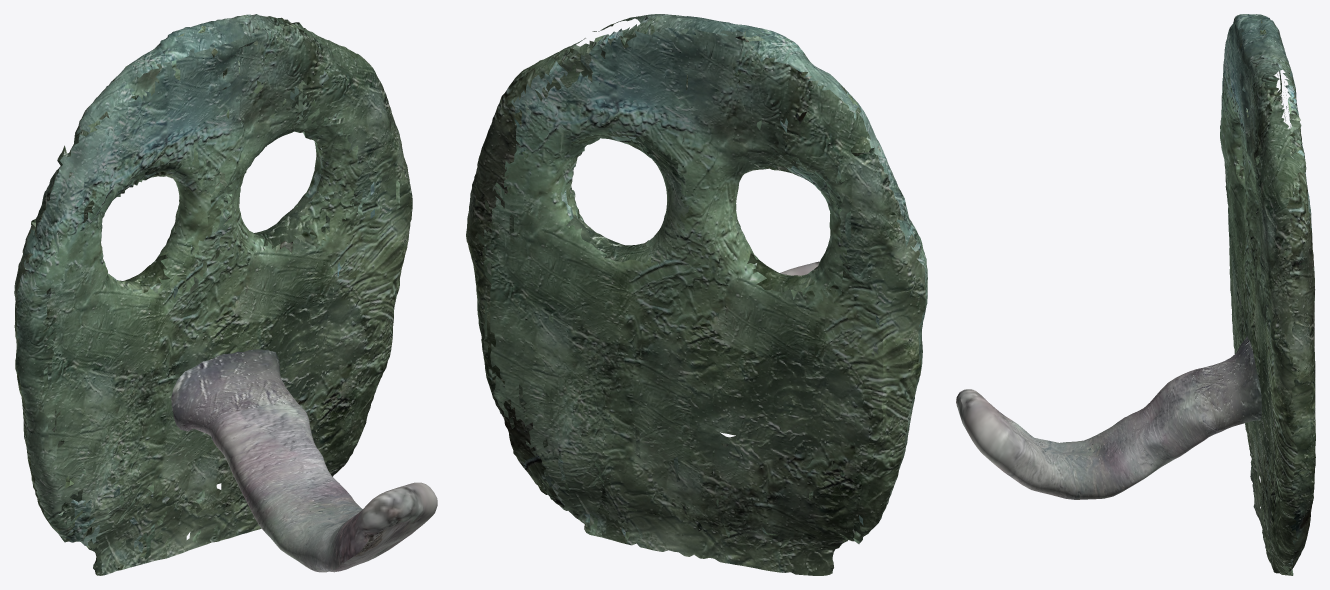
Rendered from xenoglossy-ii-Gesicht_v31.glb.
The picture shows the model from 3 angles, left to right: view 1: azimuth 30°, elevation 25°; view 2: azimuth 150°, elevation 25°; view 3: azimuth 270°, elevation 25°; orthographic projection. The views are drawn at different scales.
Visible parts, largest first — view 1: Gesicht, Zunge (Copy); view 2: Gesicht; view 3: Gesicht, Zunge (Copy).
Boxes of the visible parts, x1,y1,x2,y2 form: Gesicht: (14, 14, 412, 575); Zunge (Copy): (171, 349, 437, 572); Gesicht: (466, 14, 927, 575); Gesicht: (1220, 14, 1315, 575); Zunge (Copy): (956, 336, 1261, 499).
Size of the model in its own units: 1.69 by 1.99 by 1.31.
Materials: 1 (1 with a texture image).
